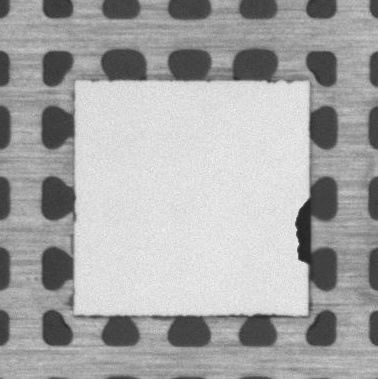DIE_BROKEN: (290, 196, 313, 271)
